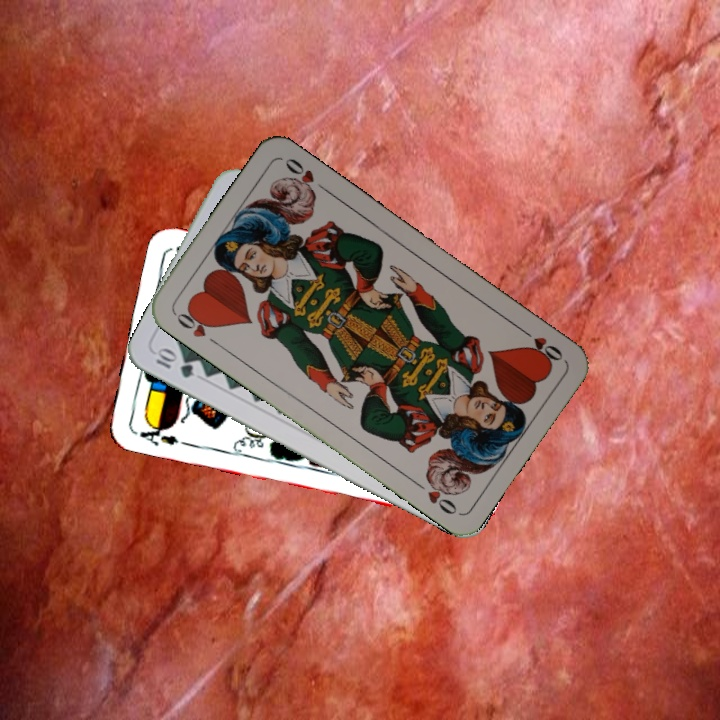EA: (135, 418, 181, 448)
G10: (152, 345, 196, 381)
HO: (171, 304, 222, 349), (515, 323, 566, 366)
